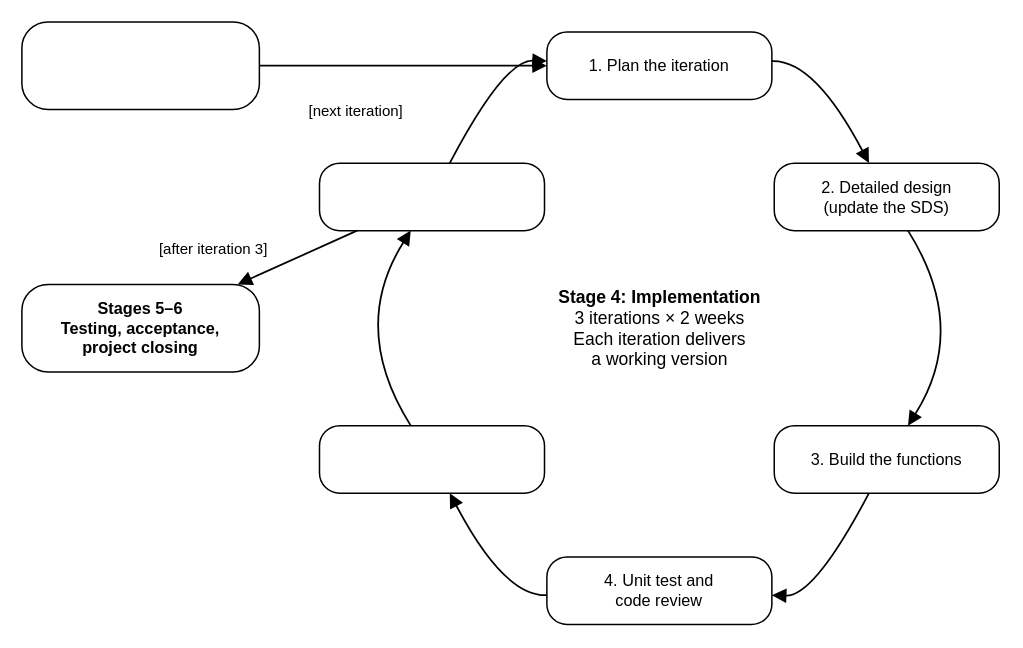
Image size: 1023x648. Some labels were removed from this diagram. The shapes that lost their labels are listed below. From the top down, each one's centre as x and y in pixels, then its label:
(140,65): Stages 1–3 Scope, requirements, high-level design
(431,196): 6. Demo to the supervisor, collect feedback
(431,458): 5. Integration test
